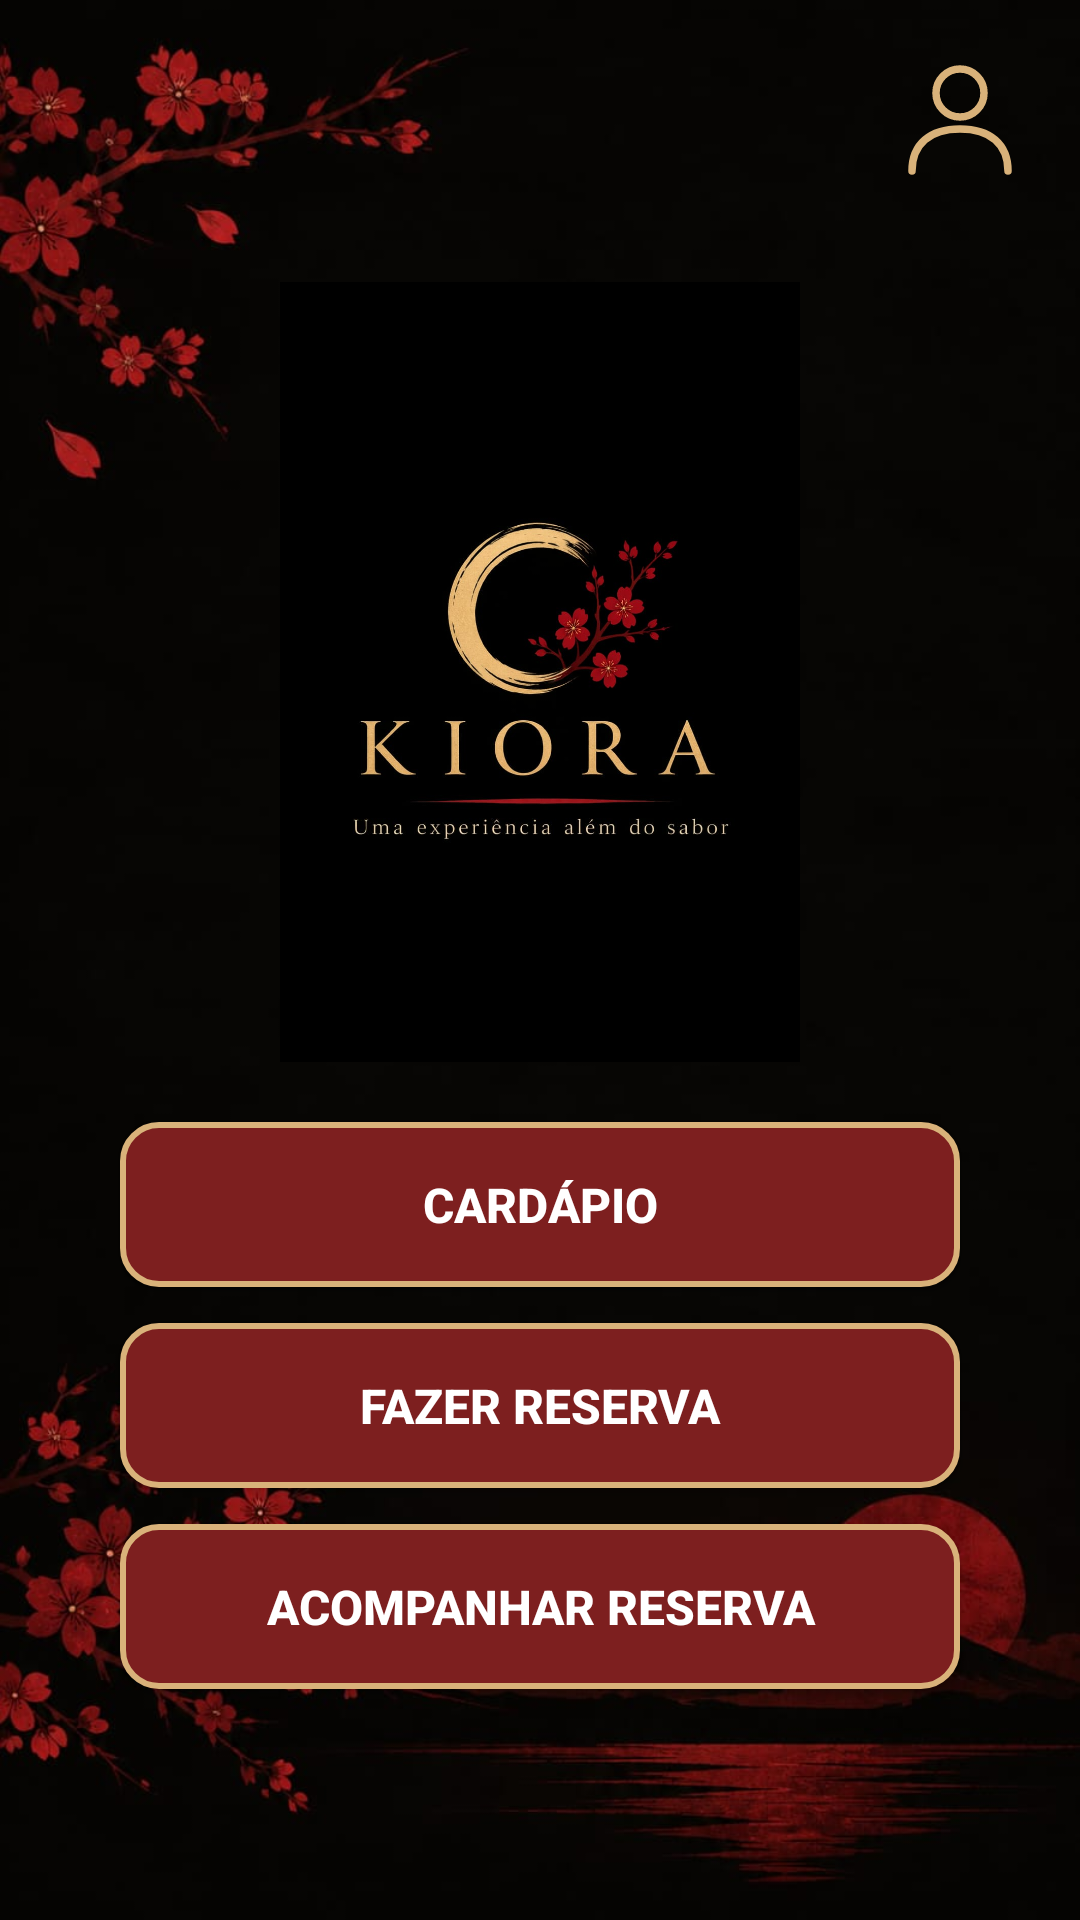

Icons on this 1080w x 1920h Android screen, each with the point to tap as (x=x, y=y):
Entrar ou cadastrar-se: (x=960, y=120)
